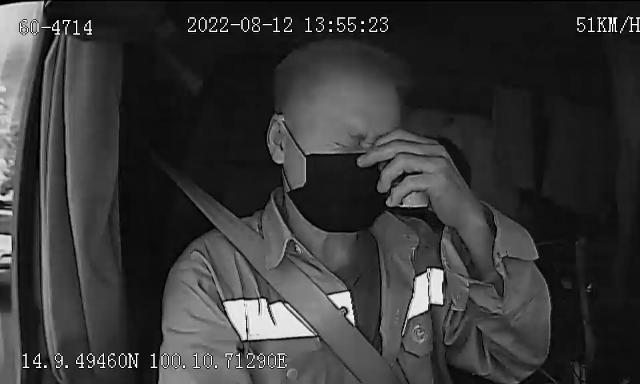Seatbelt: (183, 185, 405, 384)
